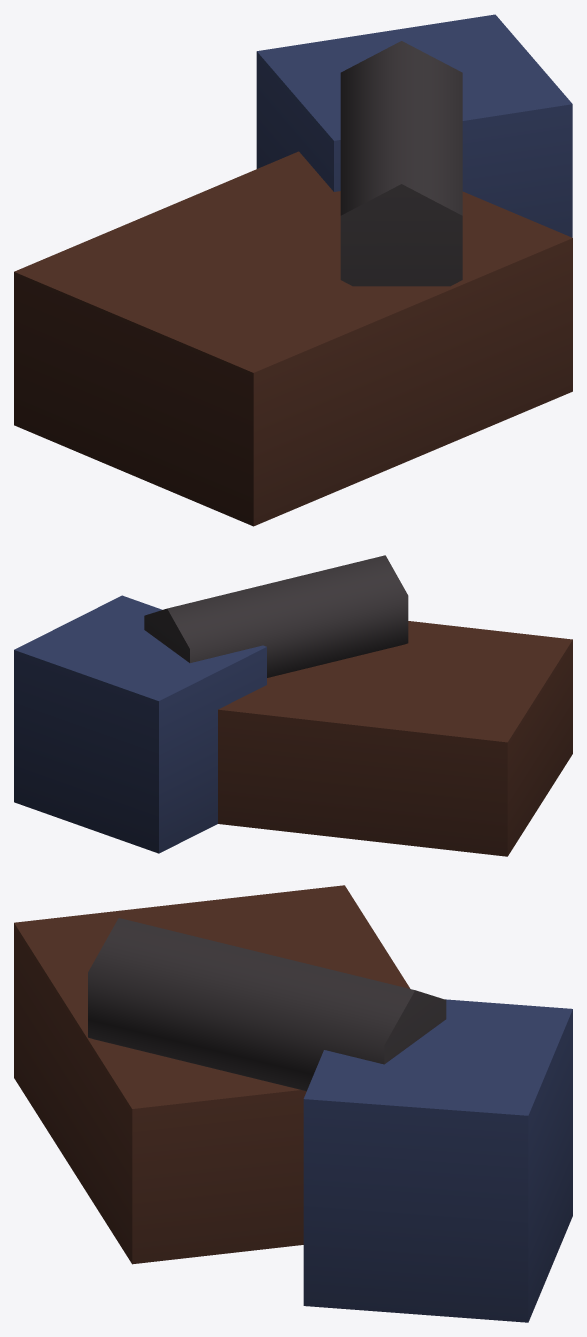
File: scrap.glb
3 renders of one model, top to bottom at view 1: azimuth 30°, elevation 25°; view 2: azimuth 150°, elevation 25°; view 3: azimuth 270°, elevation 25°, orthographic. The views are drawn at different scales.
Parts seen in each view (by area): view 1: scrap; view 2: scrap; view 3: scrap.
Boxes of the visible parts, x1=… form: scrap: x1=14, y1=14, x2=572, y2=526; scrap: x1=14, y1=555, x2=572, y2=856; scrap: x1=14, y1=885, x2=572, y2=1322.
Size of the model in its own units: 0.2341 by 0.1 by 0.1959.
